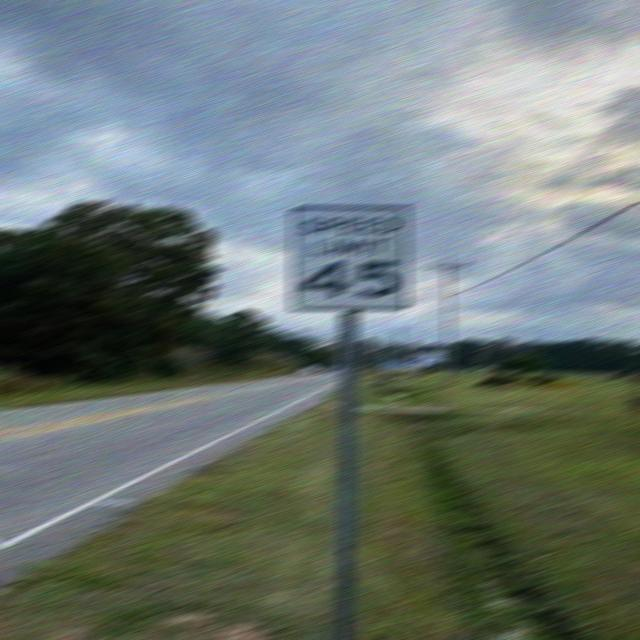speedLimit45: (284, 203, 415, 312)
